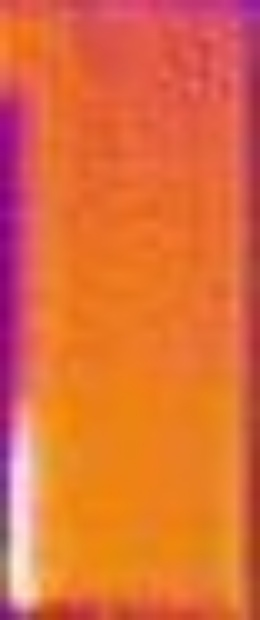Diode: (3, 395, 45, 618)
